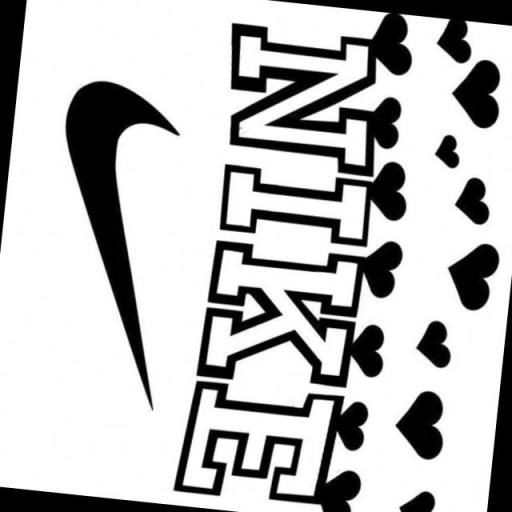Nike: (171, 13, 389, 511), (33, 76, 189, 414)
